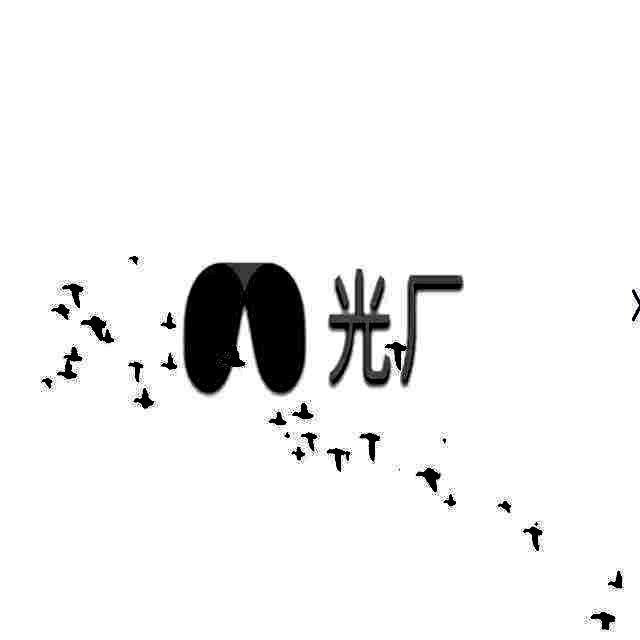bird: (384, 334, 411, 373), (359, 427, 384, 464), (220, 340, 248, 373), (416, 461, 442, 495), (78, 306, 105, 337), (326, 442, 349, 478), (590, 602, 616, 632), (523, 516, 545, 551), (55, 360, 79, 392), (492, 491, 516, 522), (56, 339, 82, 364), (62, 276, 85, 304), (607, 562, 627, 592), (162, 302, 180, 334), (131, 388, 155, 412), (101, 328, 121, 354), (38, 366, 55, 396), (162, 350, 180, 378), (126, 356, 144, 383), (49, 302, 70, 324), (293, 401, 317, 420), (302, 426, 320, 449), (268, 409, 288, 426), (445, 492, 459, 516), (290, 444, 304, 466), (130, 252, 142, 272)
